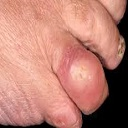Cellulitis: (64, 52, 93, 84)
